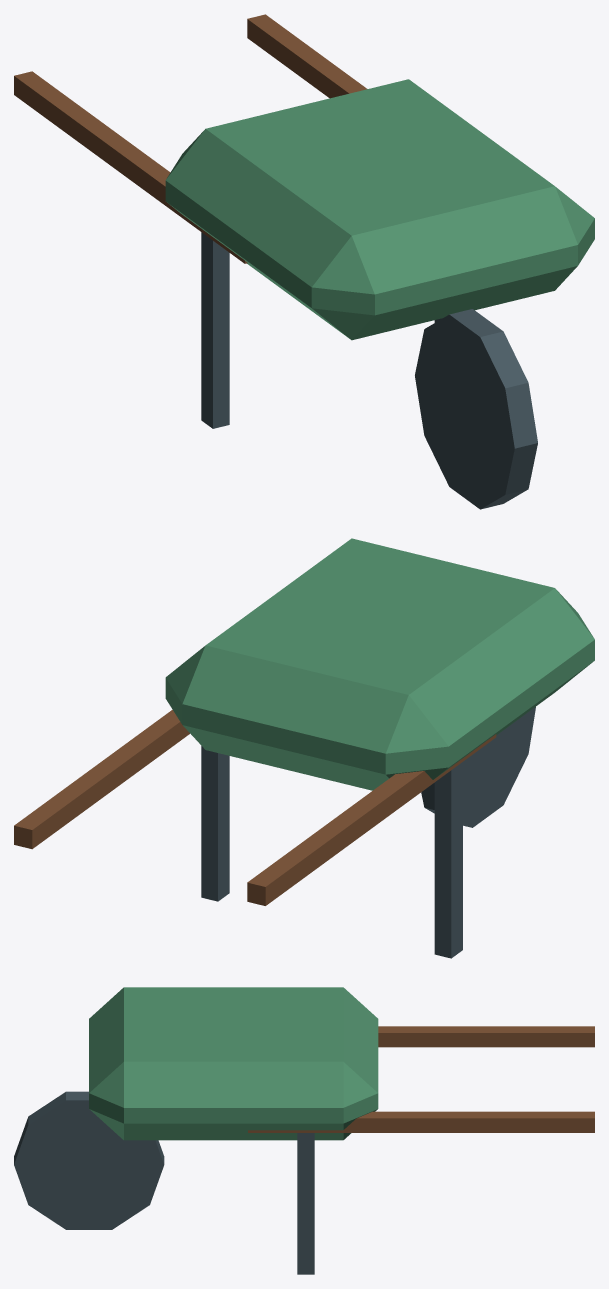
Rendered from wheelbarrow.glb.
3 views of the same model, one above another, from view 1: azimuth 30°, elevation 25°; view 2: azimuth 150°, elevation 25°; view 3: azimuth 270°, elevation 25° (orthographic). The views are drawn at different scales.
Parts seen in each view (by area): view 1: wheelbarrow; view 2: wheelbarrow; view 3: wheelbarrow.
Part boxes in pixels (x1,y1,x2,y2): wheelbarrow: [14, 14, 594, 509]; wheelbarrow: [14, 538, 594, 958]; wheelbarrow: [14, 987, 594, 1274].
Bounding box in the file's own units: 0.85 × 0.78 × 2.01.
